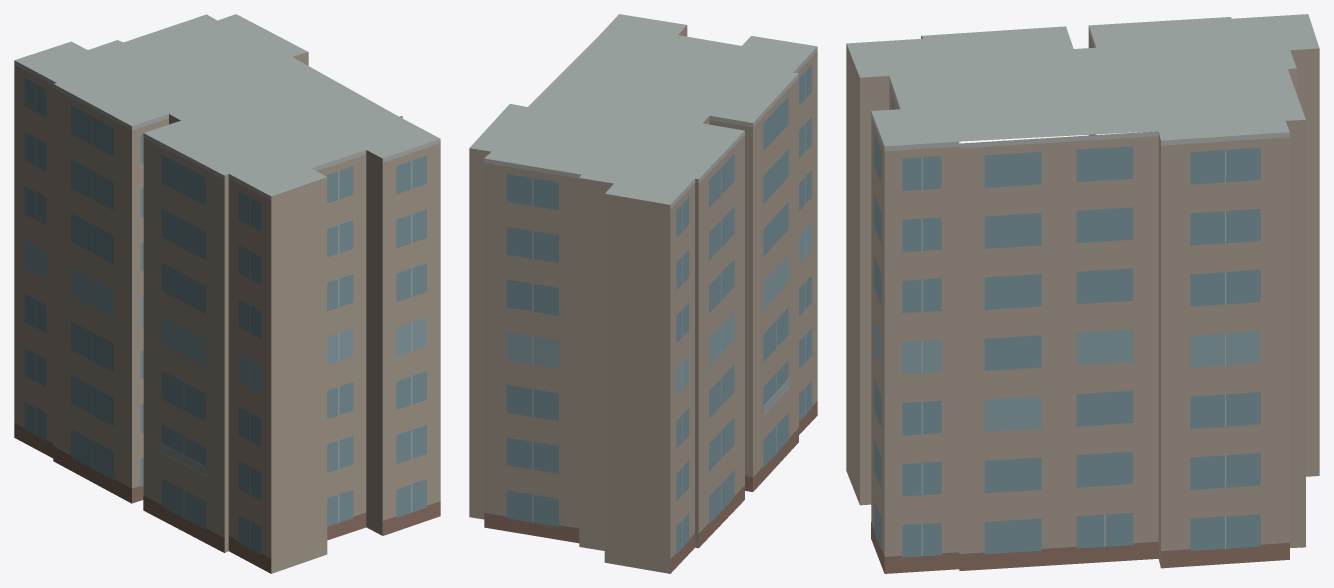
Rendered from survey-upis-32527421.glb.
3 views of the same model, side by side, from view 1: azimuth 30°, elevation 25°; view 2: azimuth 150°, elevation 25°; view 3: azimuth 270°, elevation 25° (orthographic). The views are drawn at different scales.
Parts seen in each view (by area): view 1: survey-upis-32527421.tmp; view 2: survey-upis-32527421.tmp; view 3: survey-upis-32527421.tmp.
Boxes of the visible parts, x1,y1,x2,y2 form: survey-upis-32527421.tmp: [14, 14, 440, 573]; survey-upis-32527421.tmp: [469, 14, 817, 573]; survey-upis-32527421.tmp: [846, 14, 1319, 573].
Bounding box in the file's own units: 13.88 × 20.9 × 20.96.
